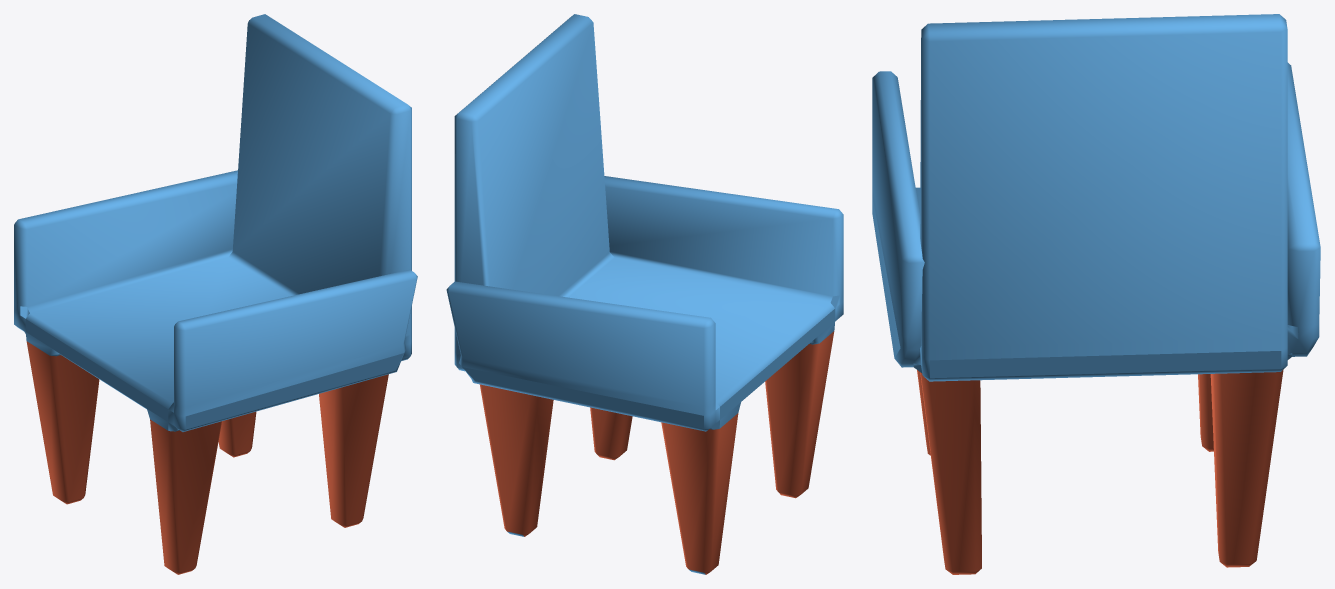
The model's file is chair.glb.
3 views of the same model, side by side, from view 1: azimuth 30°, elevation 25°; view 2: azimuth 150°, elevation 25°; view 3: azimuth 270°, elevation 25° (orthographic). The views are drawn at different scales.
Visible parts, largest first — view 1: Model; view 2: Model; view 3: Model.
Part boxes in pixels (<box>): Model: <box>14,14,417,574</box>; Model: <box>446,14,843,574</box>; Model: <box>872,14,1320,574</box>.
Size of the model in its own units: 242 by 359 by 256.
